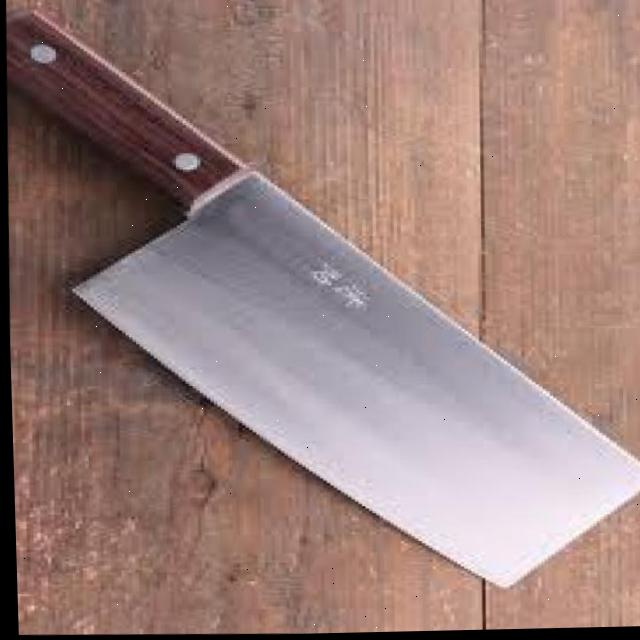Dry: (0, 0, 640, 604)
